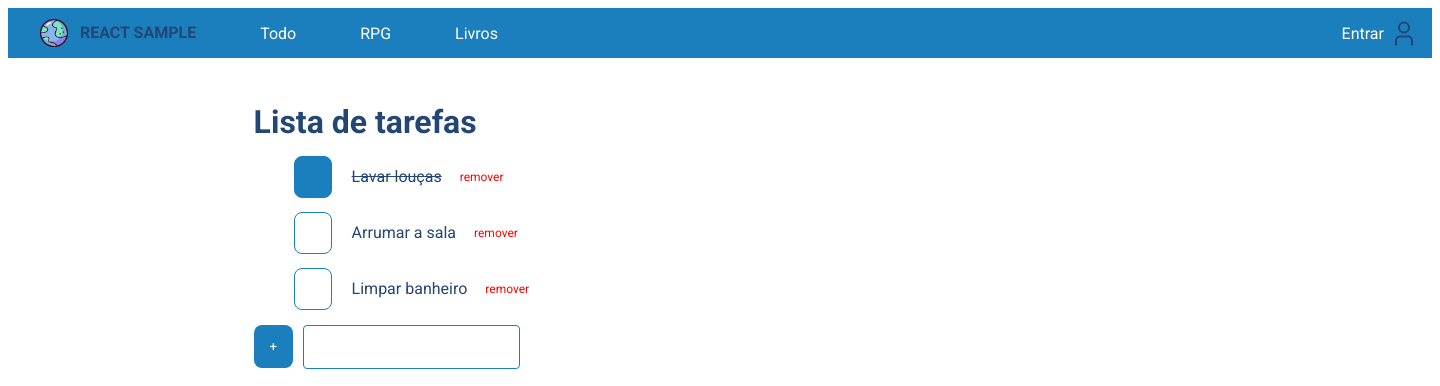
Test: TodoPage › deve remover task da lista
Click the button "remover" next to "Lavar louças" at (482, 177), box [460,170,504,184]
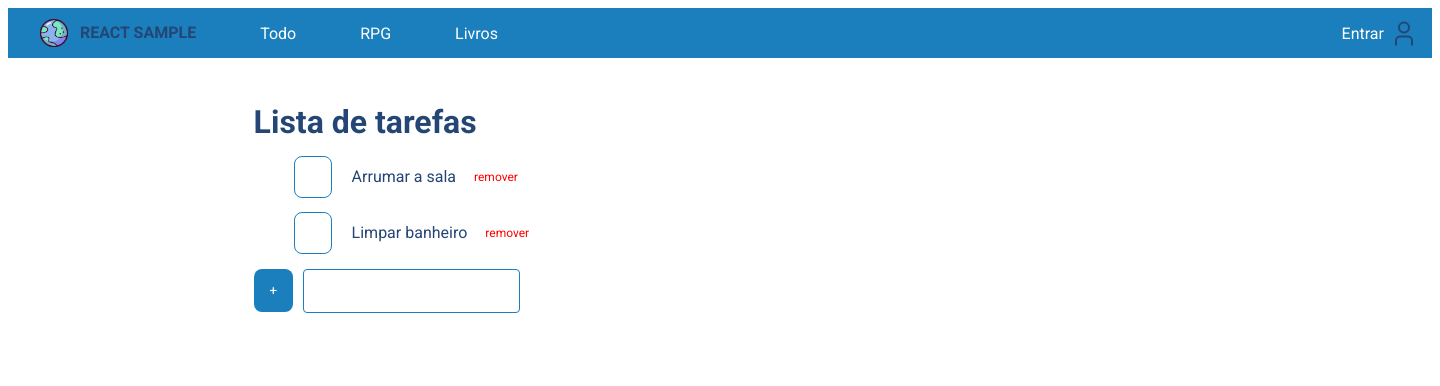
Expected: the checkbox "Lavar louças" is gone
